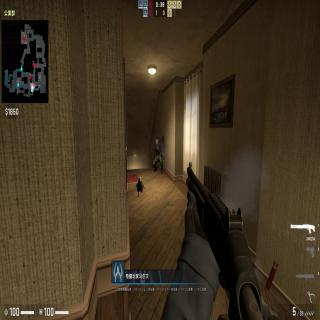T-Body: (152, 137, 164, 175)
T-Head: (155, 137, 159, 145)
